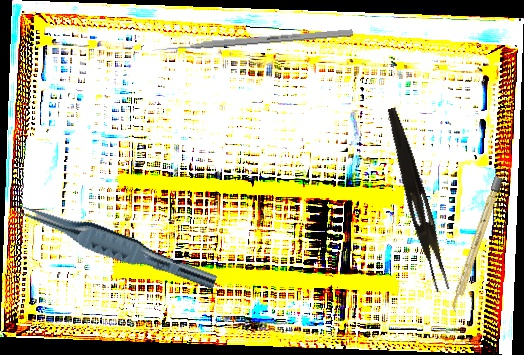Dressing Forceps: (377, 106, 457, 293)
Pusher: (152, 28, 353, 54)
Scalpel Handle: (448, 175, 504, 314)
Tissue Forceps: (10, 197, 222, 292)
